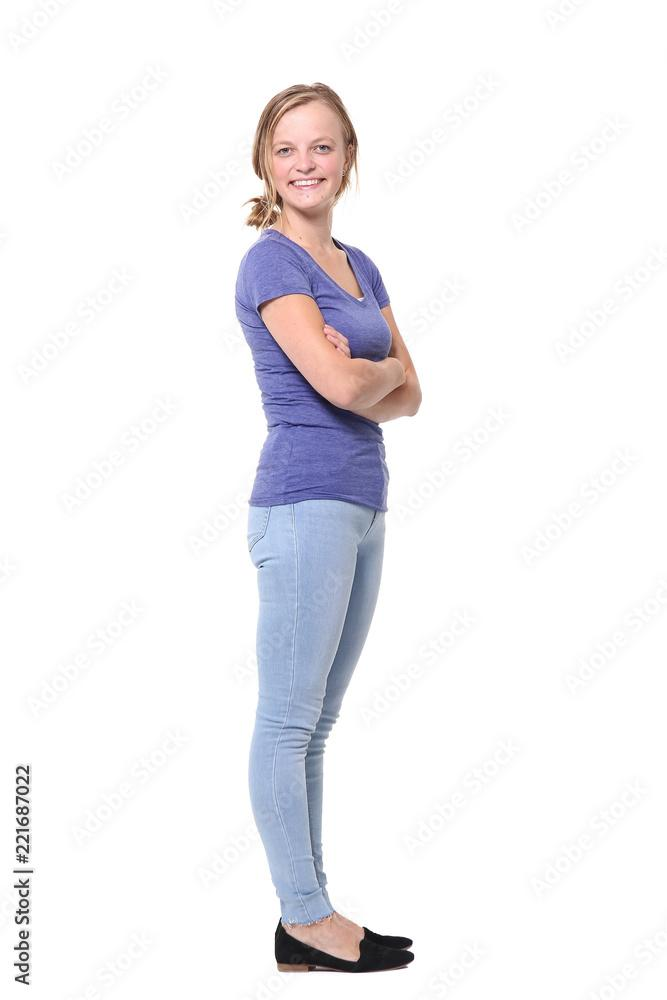Human: (208, 64, 444, 972)
